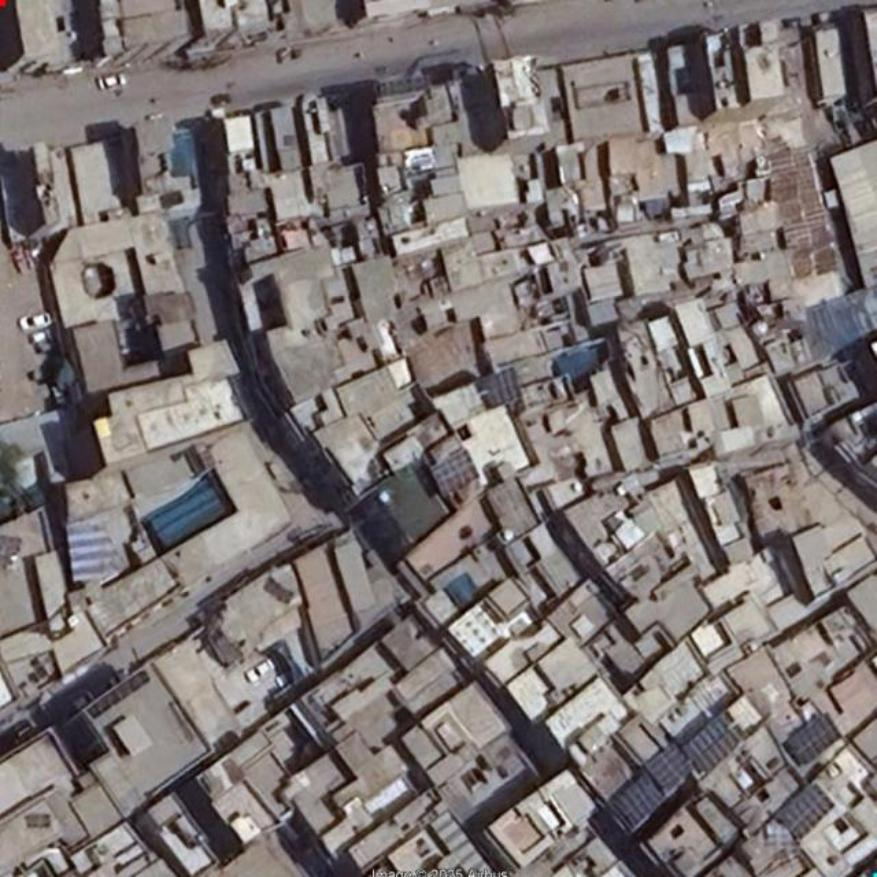Solarpanel: (683, 712, 747, 772), (610, 769, 667, 832), (773, 786, 835, 842), (645, 739, 696, 792), (428, 448, 480, 498), (786, 712, 824, 768)
